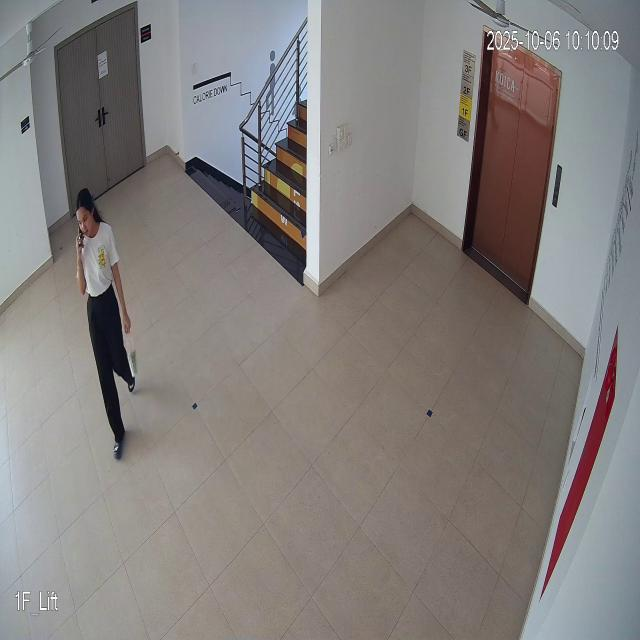face: (70, 188, 102, 252)
